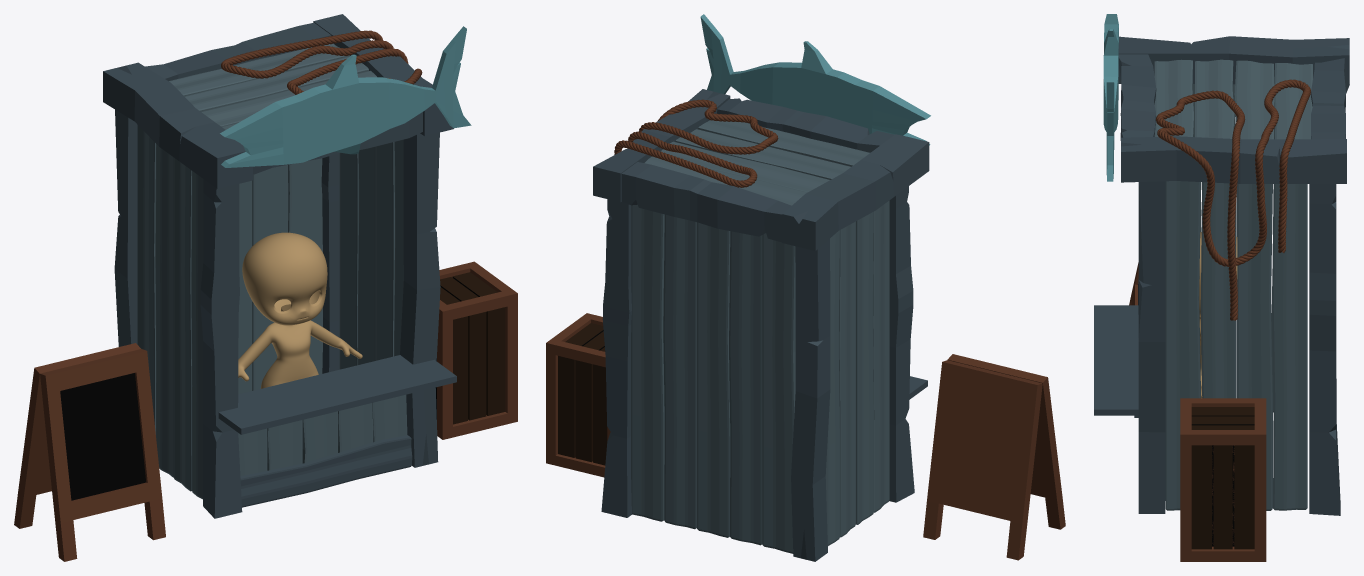
The model's file is Playtest1Shop.fbx.
3 views of the same model, side by side, from view 1: azimuth 30°, elevation 25°; view 2: azimuth 150°, elevation 25°; view 3: azimuth 270°, elevation 25° (orthographic). The views are drawn at different scales.
Parts seen in each view (by area): view 1: Left1.001; view 2: Left1.001; view 3: Left1.001.
Boxes of the visible parts, x1,y1,x2,y2 form: Left1.001: (14, 14, 517, 561); Left1.001: (546, 14, 1065, 561); Left1.001: (1094, 14, 1349, 561).
Bounding box in the file's own units: 3261 × 2866 × 1513.
